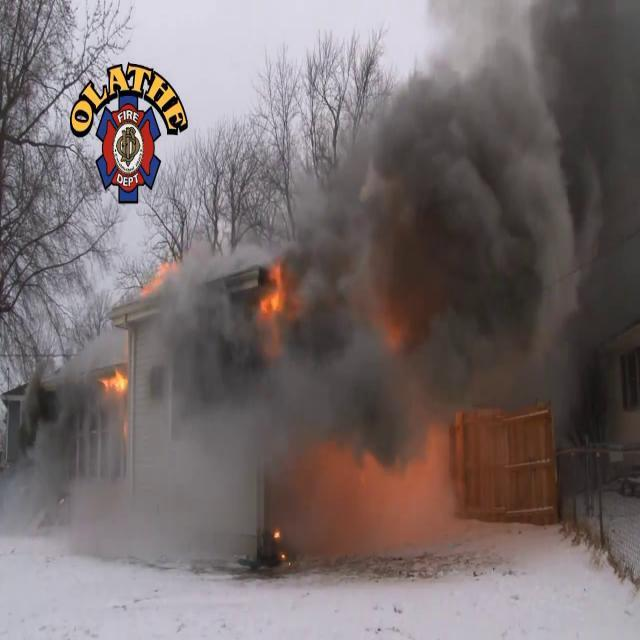Fire: (261, 258, 289, 318), (100, 360, 129, 400)
Smoke: (259, 2, 640, 466), (5, 240, 316, 591)
